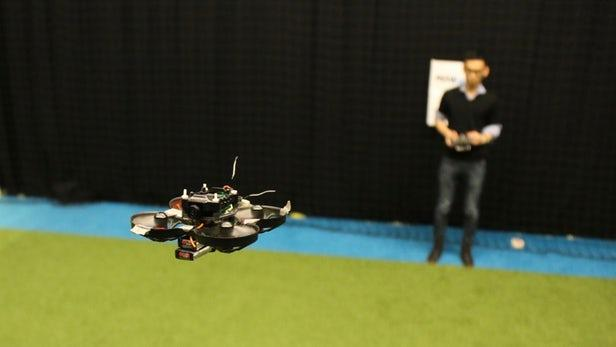drone: (122, 174, 299, 257)
